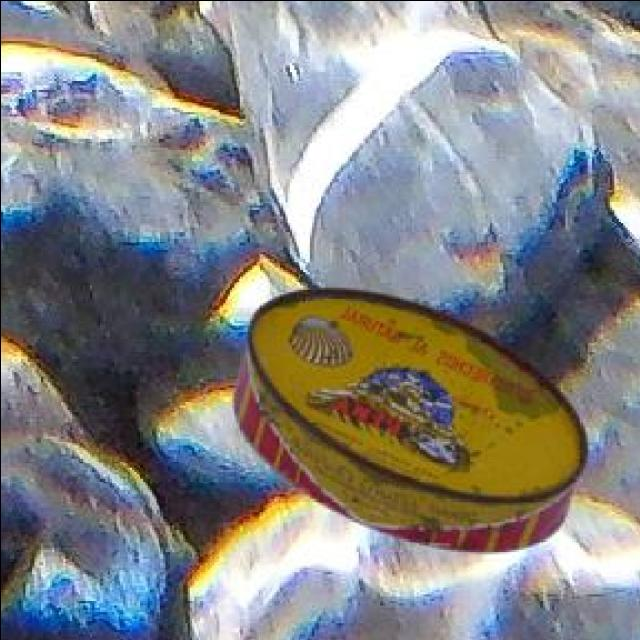logam: (237, 283, 590, 548)
